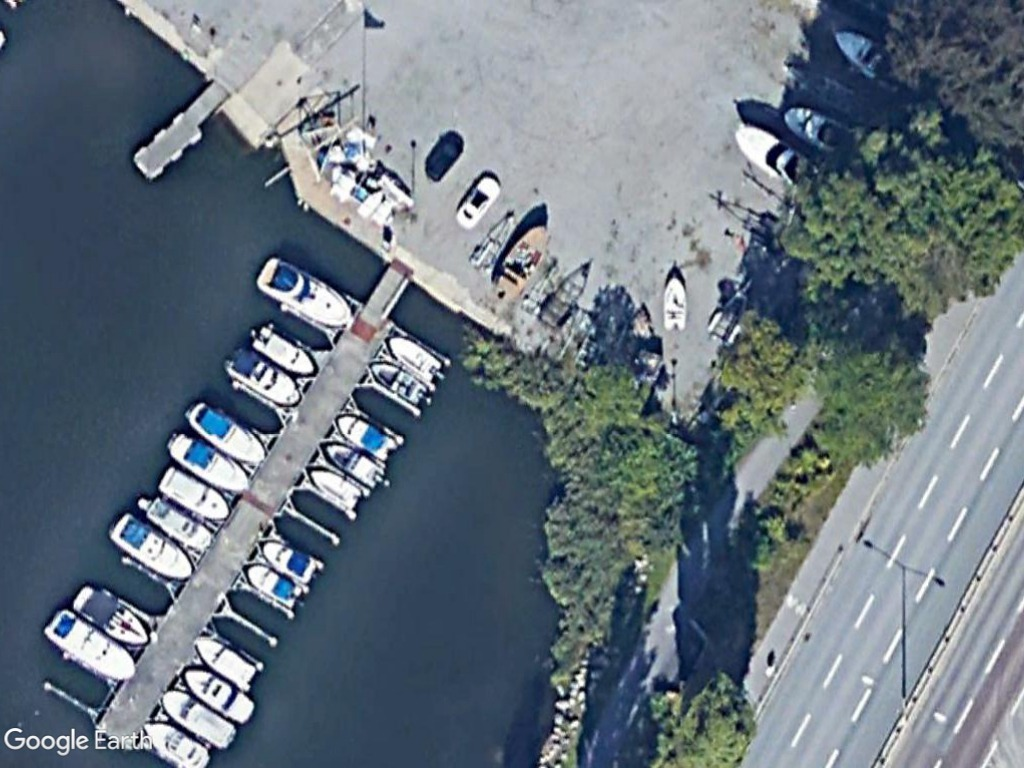boat: (37, 606, 147, 689), (252, 250, 355, 332), (97, 508, 196, 584), (159, 428, 256, 498), (216, 342, 308, 412), (235, 313, 325, 382), (182, 398, 269, 469), (67, 580, 154, 650), (174, 661, 258, 729), (156, 684, 240, 752), (149, 462, 233, 525), (187, 633, 262, 694), (316, 438, 392, 491), (299, 459, 368, 515), (334, 408, 400, 465), (361, 355, 431, 408), (238, 557, 306, 610), (381, 332, 447, 386), (259, 535, 324, 587), (656, 267, 691, 338)
car: (451, 170, 509, 233)
